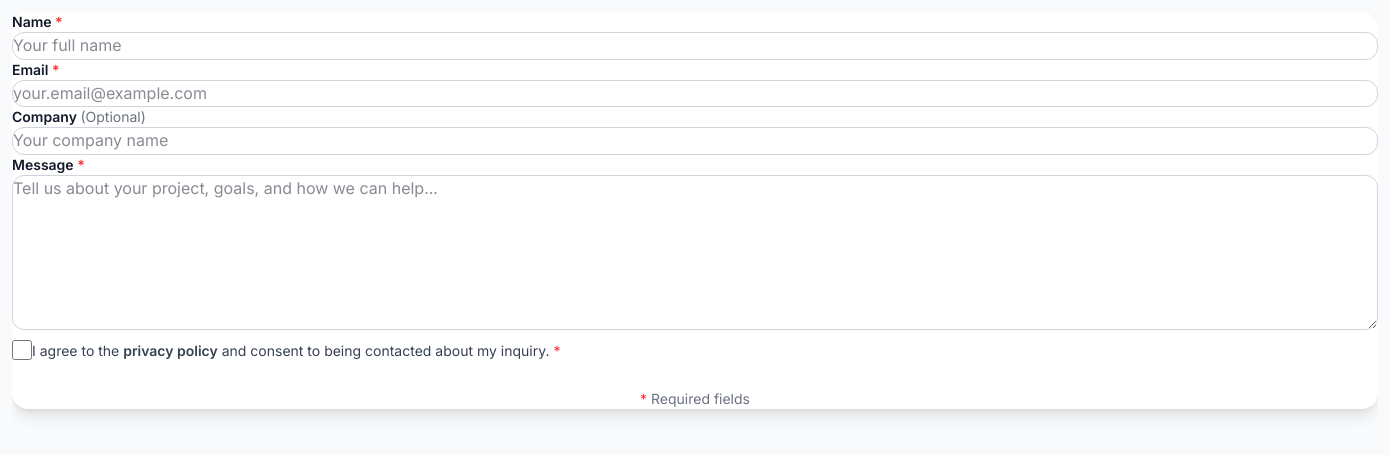
Test case: ContactForm › displays validation error for short name
This screenshot has width=1390, height=455.
Type "A" into the field labelled "Name *" at (695, 46), box top-left (12, 32), bottom-right (1378, 60)
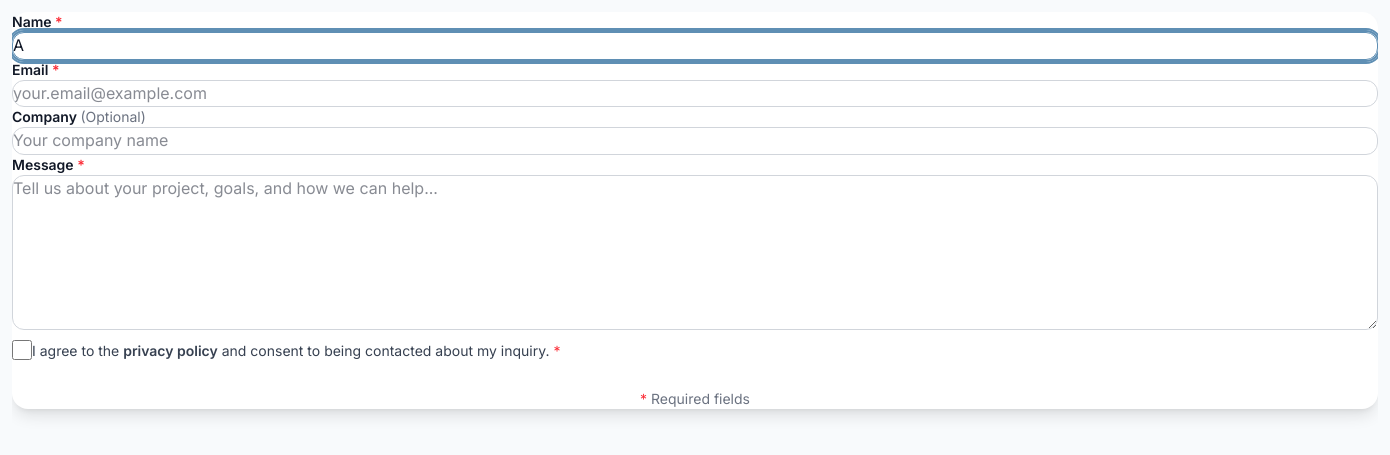
Press Tab
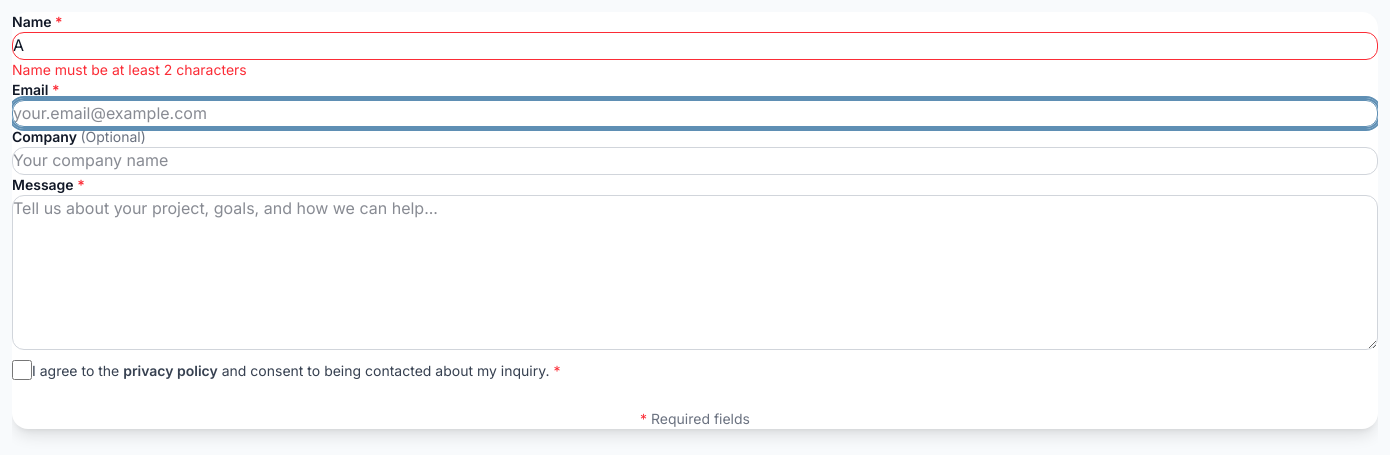
Expected: the text "Name must be at least 2 characters" is shown, top-left (12, 61), bottom-right (247, 78)
